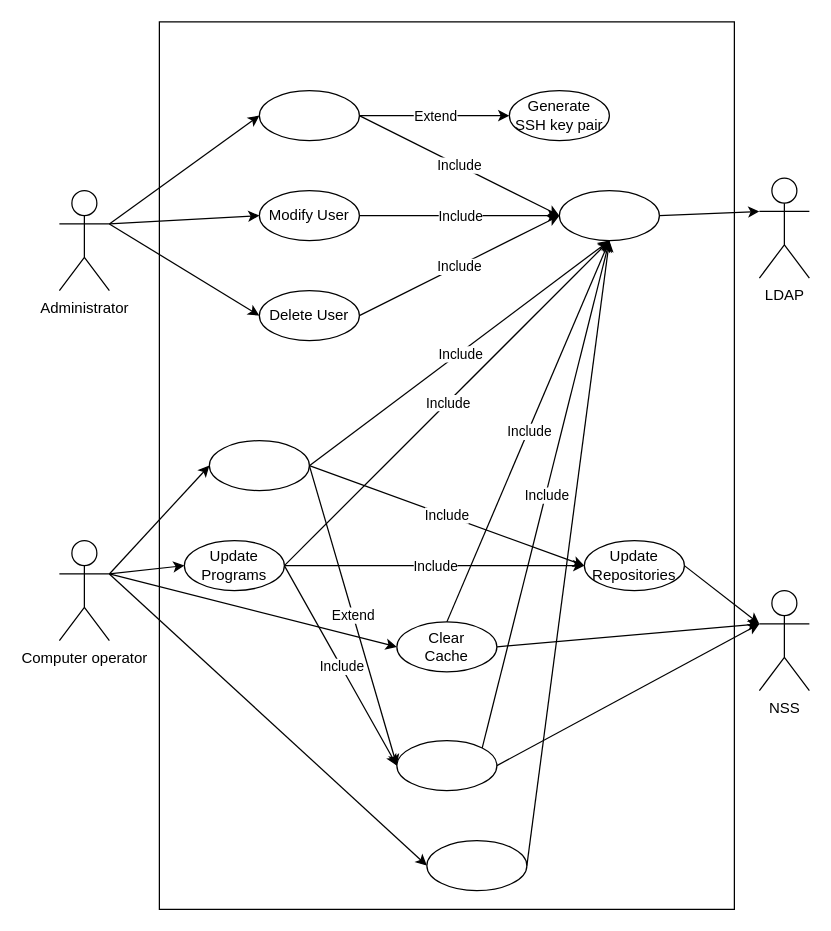
Image size: 831x931. Some labels were removed from this diagram. The shapes that lost their labels are listed below. From the top down, each one's centre as x and y in pixels, then its label:
At [308,115]: "Create User".
At [608,215]: "Login".
At [258,465]: "Install a program".
At [446,765]: "Reboot a computer".
At [476,865]: "Ping Computer".
